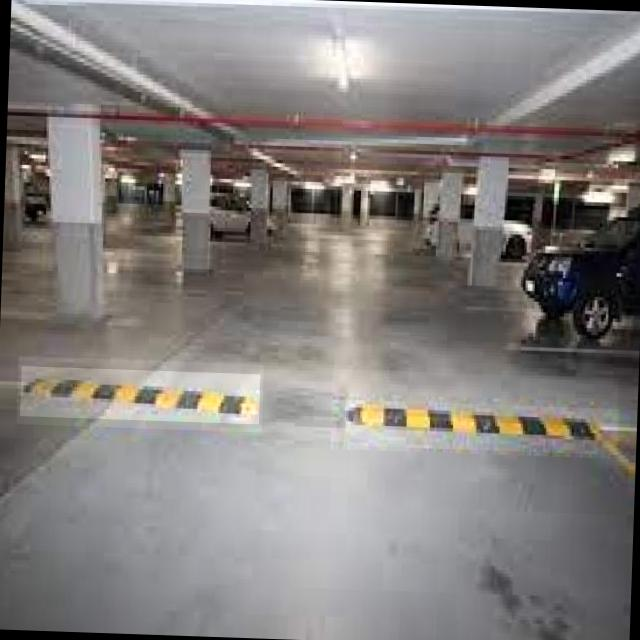bump: (344, 399, 619, 454), (19, 366, 260, 424)
